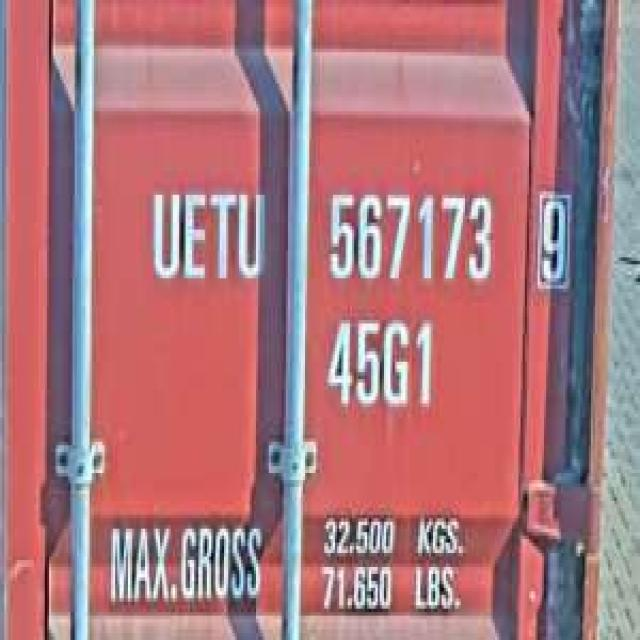dv: (531, 181, 574, 292)
owner: (145, 177, 269, 296)
serial: (320, 174, 499, 299)
size: (320, 306, 439, 417)
